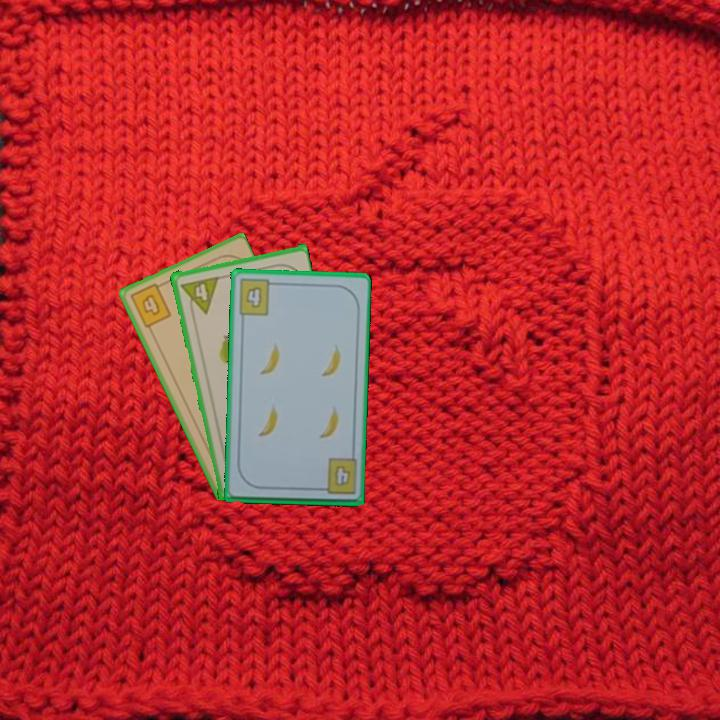4b: (126, 279, 174, 331), (235, 276, 279, 318), (314, 455, 358, 497)
4p: (176, 273, 221, 318)
